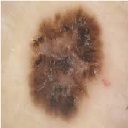Bowen: (30, 9, 106, 117)
